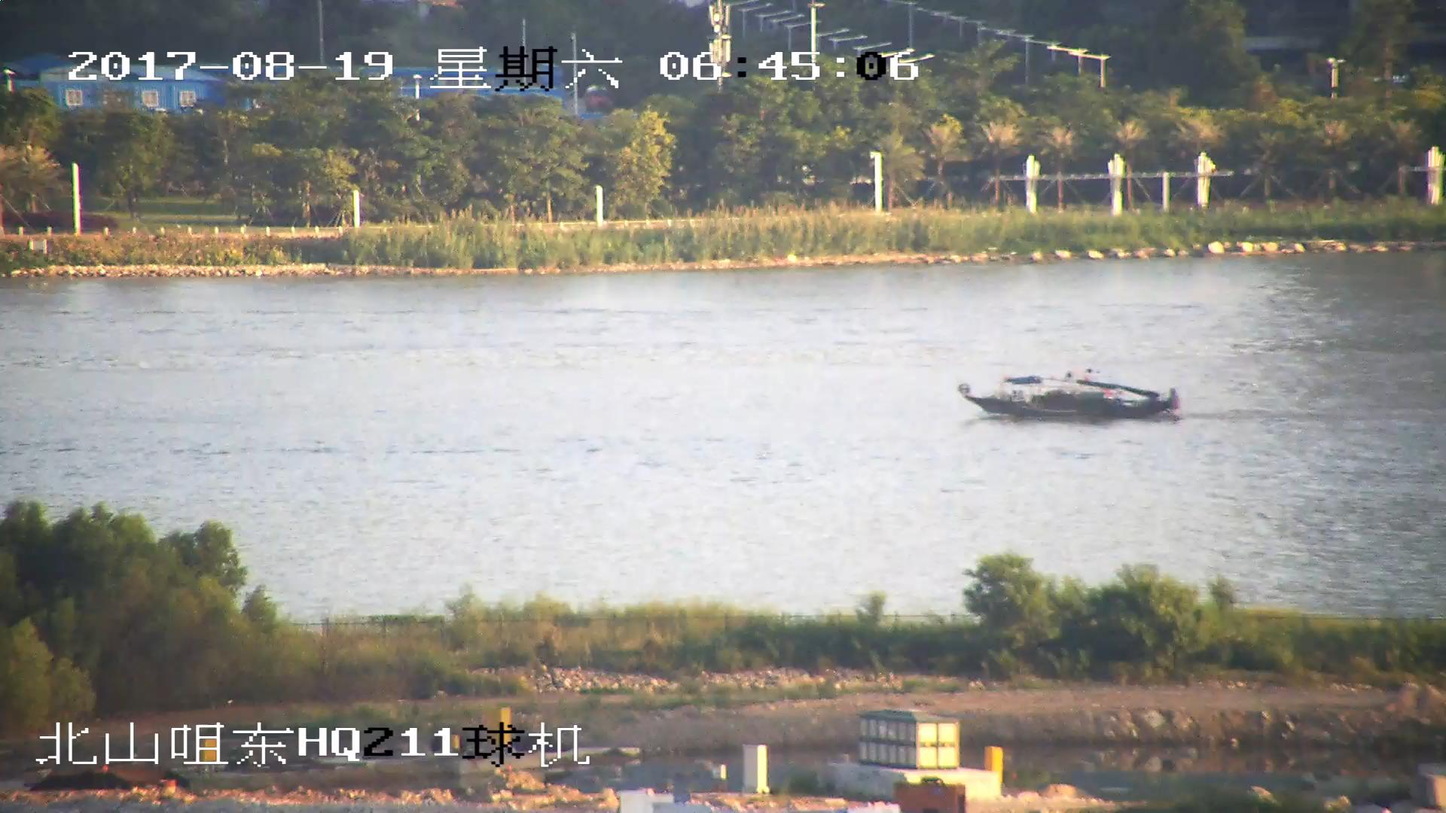fishing boat: (958, 367, 1177, 420)
